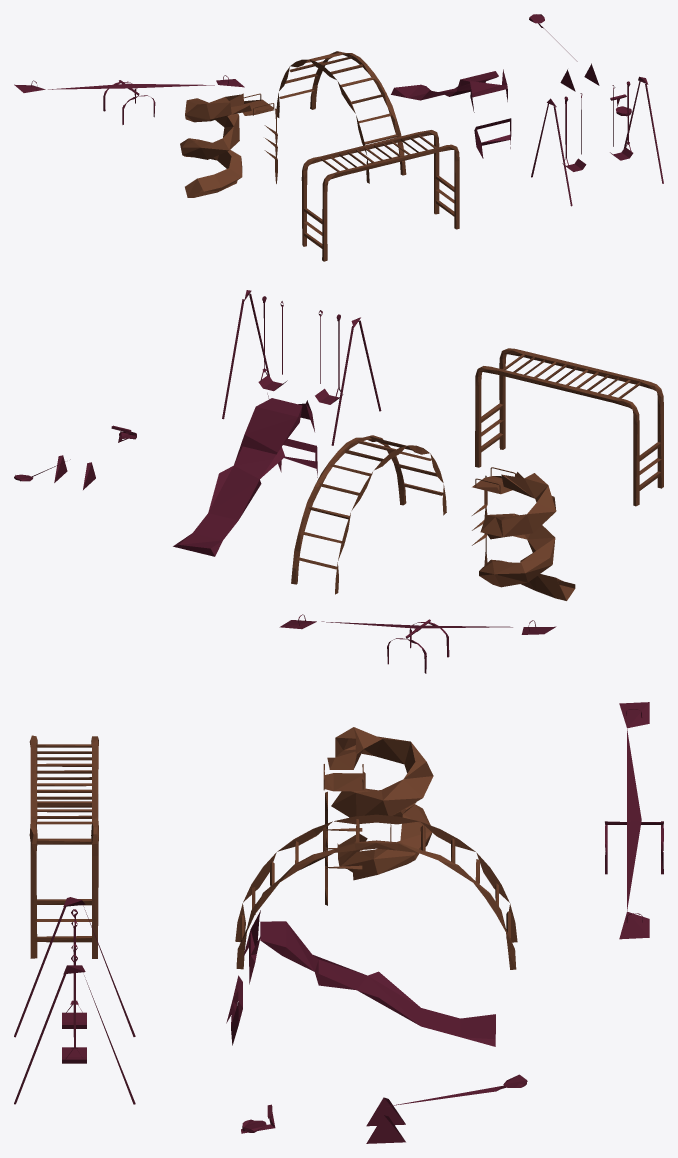
File: playground.lod1.glb
The picture shows the model from 3 angles, top to bottom: view 1: azimuth 30°, elevation 25°; view 2: azimuth 150°, elevation 25°; view 3: azimuth 270°, elevation 25°; orthographic projection. The views are drawn at different scales.
Visible parts, largest first — view 1: Circle_Material.008_0, Circle.001__0; view 2: Circle_Material.008_0, Circle.001__0; view 3: Circle_Material.008_0, Circle.001__0.
Part boxes in pixels (bbox=[...]): Circle_Material.008_0: bbox=[180, 51, 459, 261]; Circle.001__0: bbox=[14, 14, 663, 206]; Circle_Material.008_0: bbox=[291, 348, 663, 600]; Circle.001__0: bbox=[14, 290, 556, 673]; Circle_Material.008_0: bbox=[29, 727, 517, 969]; Circle.001__0: bbox=[14, 702, 663, 1143].
Size of the model in its own units: 8.38 by 1.65 by 6.35.
Materials: 2 (2 with a texture image).
